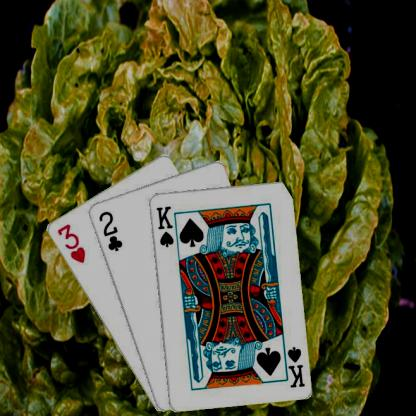2C: (96, 208, 124, 252)
3H: (54, 221, 86, 264)
KS: (280, 341, 306, 388), (153, 203, 174, 248)
